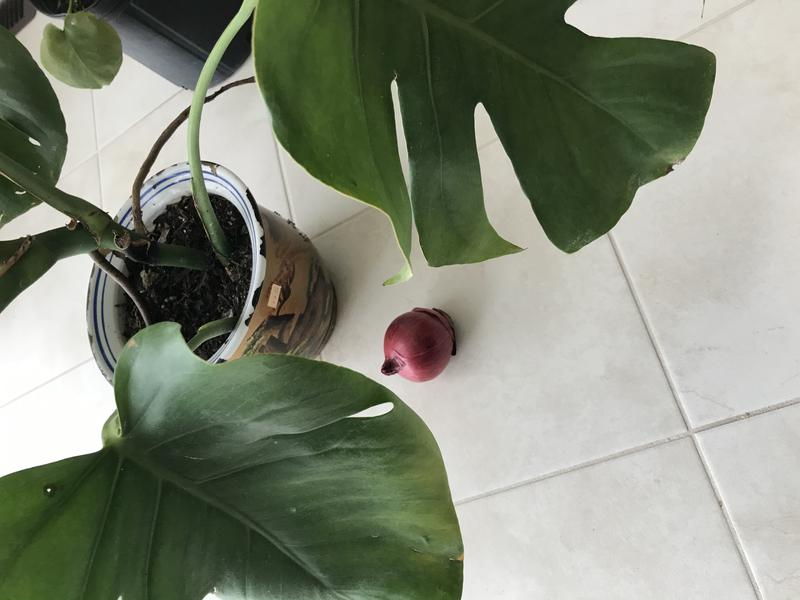purple_onion: (376, 300, 466, 393)
